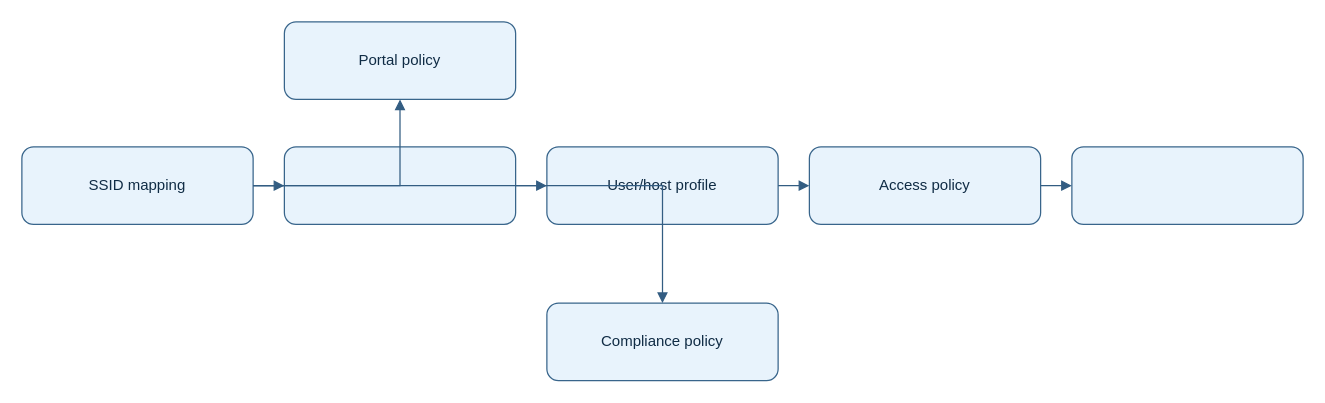
Image size: 1325x403. Some labels were removed from this diagram. Each missing label, with the box of its shape:
Access config/VLAN: (1071, 146, 1303, 224)
SSID port group: (283, 146, 516, 224)
